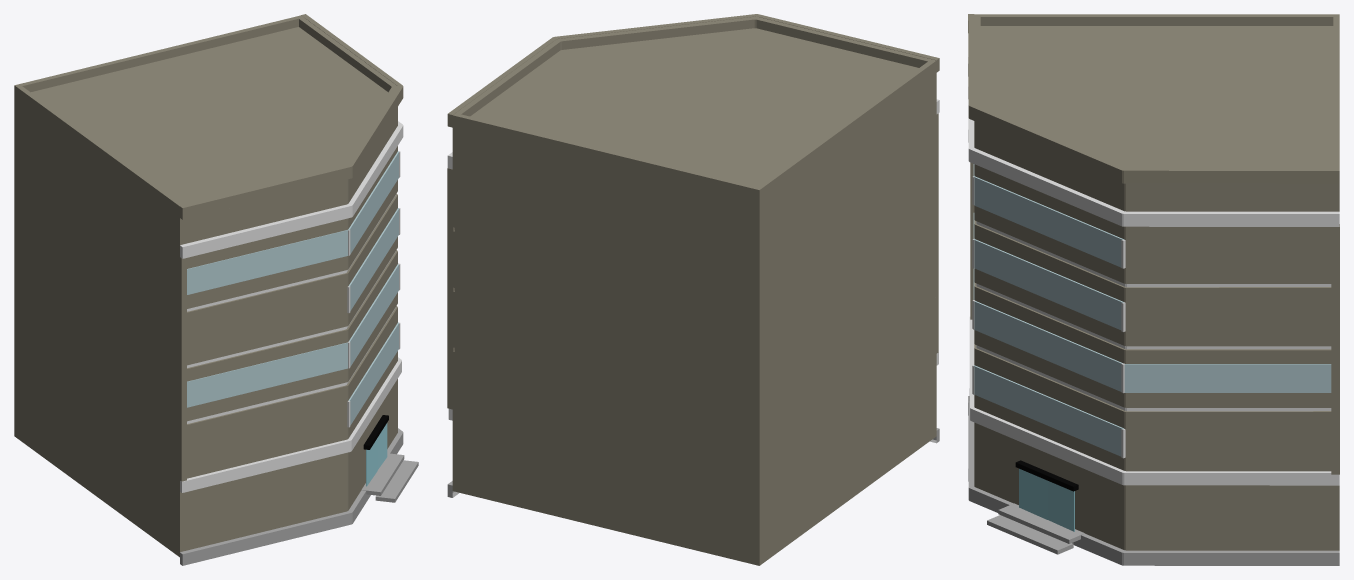
3 views of the same model, side by side, from view 1: azimuth 30°, elevation 25°; view 2: azimuth 150°, elevation 25°; view 3: azimuth 270°, elevation 25° (orthographic). The views are drawn at different scales.
Visible parts, largest first — view 1: Cube.008, Cube.011, Cube.007, Cube.009, Cube.001, Cube.006, Cube.005, Cube.004, Cube.010; view 2: Cube.008, Cube.001, Cube.011; view 3: Cube.008, Cube.011, Cube.009, Cube.007, Cube.005, Cube.006, Cube.001, Cube.010, Cube.004, Cube.002, Cube.003, Cube.
Boxes of the visible parts, x1,y1,x2,y2 form: Cube.008: [14, 15, 403, 557]; Cube.011: [180, 14, 403, 565]; Cube.007: [187, 151, 399, 294]; Cube.009: [187, 264, 398, 407]; Cube.001: [179, 151, 400, 481]; Cube.006: [348, 208, 399, 310]; Cube.005: [348, 322, 399, 425]; Cube.004: [361, 453, 404, 495]; Cube.010: [375, 460, 418, 502]; Cube.008: [447, 16, 939, 565]; Cube.001: [447, 113, 938, 409]; Cube.011: [447, 14, 939, 497]; Cube.008: [968, 14, 1339, 550]; Cube.011: [968, 14, 1339, 565]; Cube.009: [973, 213, 1331, 392]; Cube.007: [973, 164, 1124, 267]; Cube.005: [973, 365, 1123, 456]; Cube.006: [973, 239, 1123, 329]; Cube.001: [970, 162, 1339, 474]; Cube.010: [987, 515, 1073, 554]; Cube.004: [998, 503, 1084, 543]; Cube.002: [1019, 468, 1047, 519]; Cube.003: [1047, 481, 1074, 531]; Cube: [1015, 460, 1078, 491].
Size of the model in its own units: 162 by 190 by 162.
